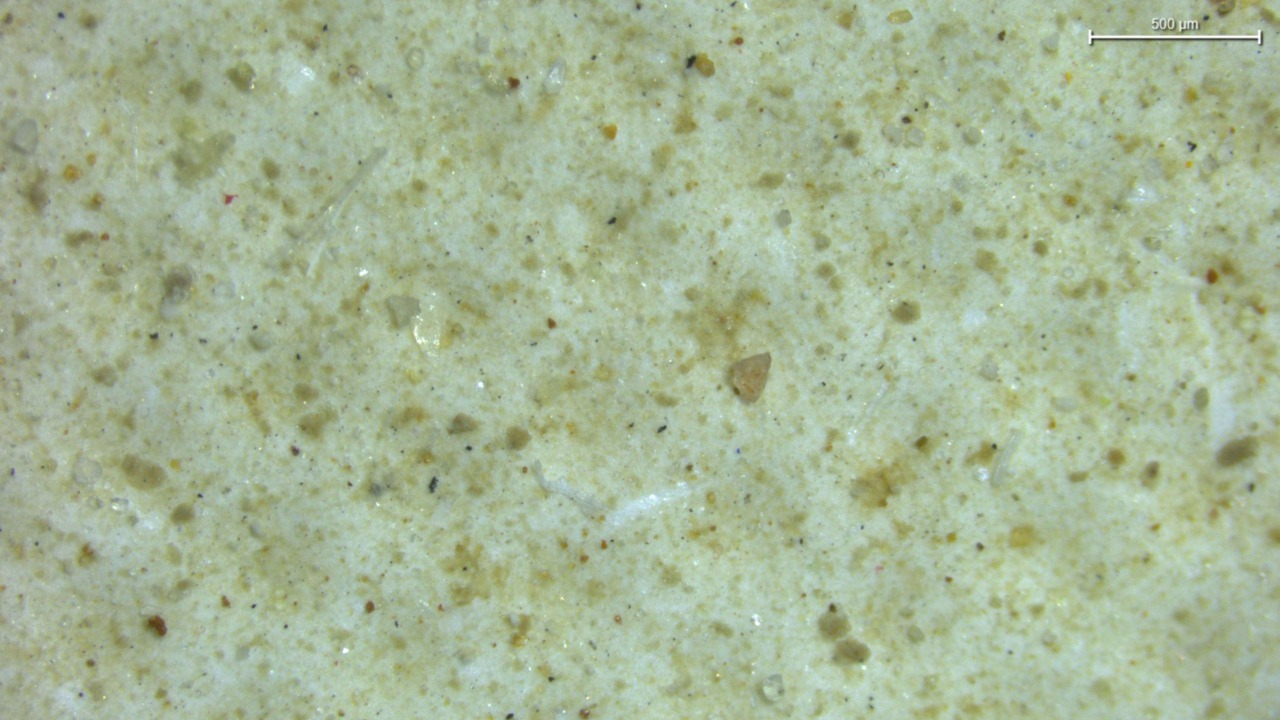microplastic_fragment: (727, 352, 771, 402), (386, 296, 421, 328)
